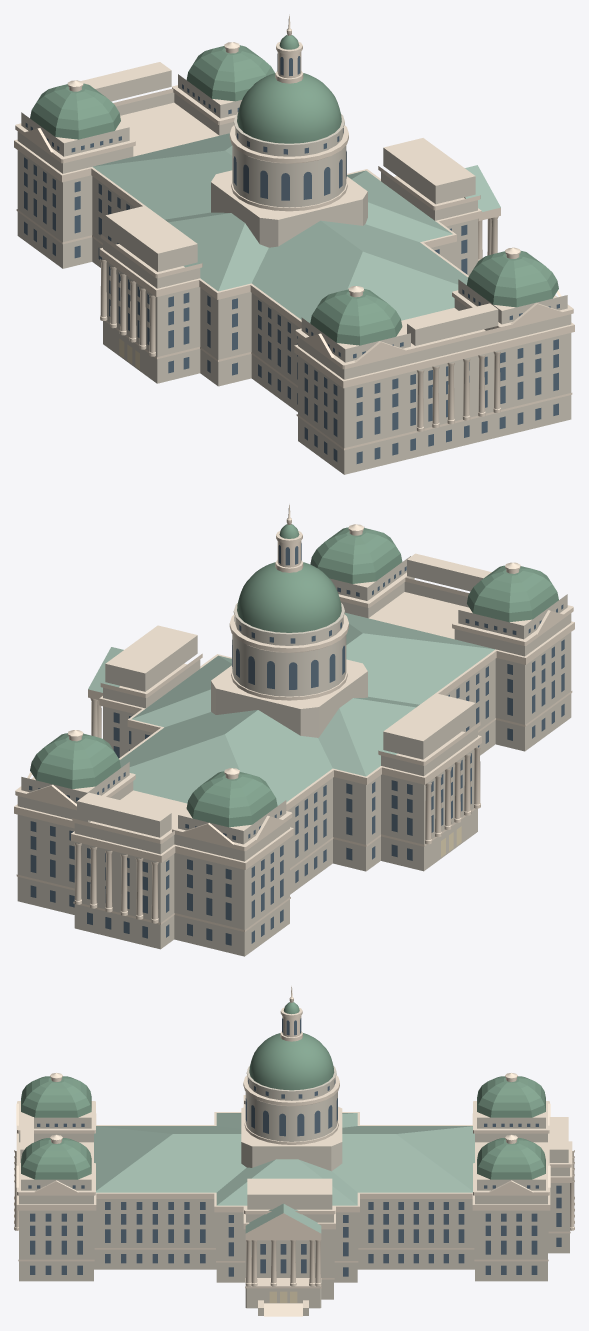
The model's file is ind-indiana-statehouse.glb.
The picture shows the model from 3 angles, top to bottom: view 1: azimuth 30°, elevation 25°; view 2: azimuth 150°, elevation 25°; view 3: azimuth 270°, elevation 25°; orthographic projection. The views are drawn at different scales.
Parts seen in each view (by area): view 1: Indiana Statehouse; view 2: Indiana Statehouse; view 3: Indiana Statehouse.
Part boxes in pixels (box(x1,y1,x2,y2)): Indiana Statehouse: box(14, 14, 574, 474); Indiana Statehouse: box(14, 504, 574, 956); Indiana Statehouse: box(14, 986, 574, 1316).
Bounding box in the file's own units: 94.35 × 75.65 × 153.
